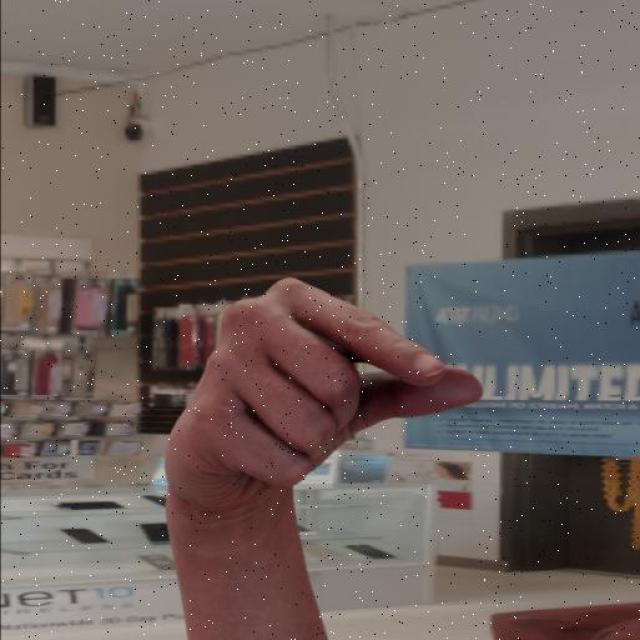G: (156, 273, 485, 518)
